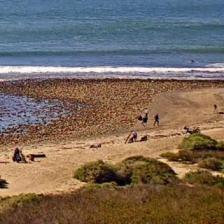surfer: (191, 60, 198, 63)
